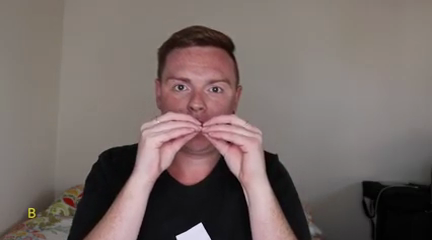B: (133, 112, 270, 182)
